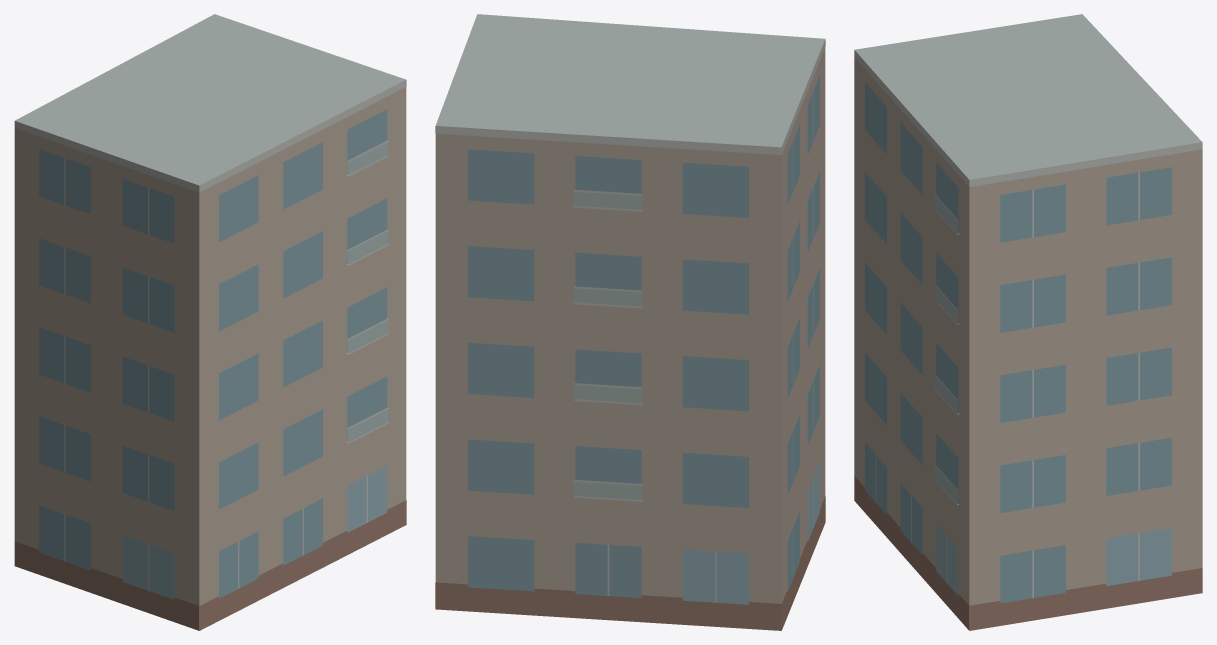
The model's file is residential-a9cca4ef-9b0b-414e-8ca2-8c6e912d0874.glb.
3 views of the same model, side by side, from view 1: azimuth 30°, elevation 25°; view 2: azimuth 150°, elevation 25°; view 3: azimuth 270°, elevation 25° (orthographic). The views are drawn at different scales.
Visible parts, largest first — view 1: residential-a9cca4ef-9b0b-414e-8ca2-8c6e912d0874.tmp; view 2: residential-a9cca4ef-9b0b-414e-8ca2-8c6e912d0874.tmp; view 3: residential-a9cca4ef-9b0b-414e-8ca2-8c6e912d0874.tmp.
Boxes of the visible parts, bbox=[...] form: residential-a9cca4ef-9b0b-414e-8ca2-8c6e912d0874.tmp: bbox=[14, 14, 406, 630]; residential-a9cca4ef-9b0b-414e-8ca2-8c6e912d0874.tmp: bbox=[435, 14, 825, 630]; residential-a9cca4ef-9b0b-414e-8ca2-8c6e912d0874.tmp: bbox=[854, 14, 1202, 630].
Size of the model in its own units: 12.05 by 15.25 by 10.69.
